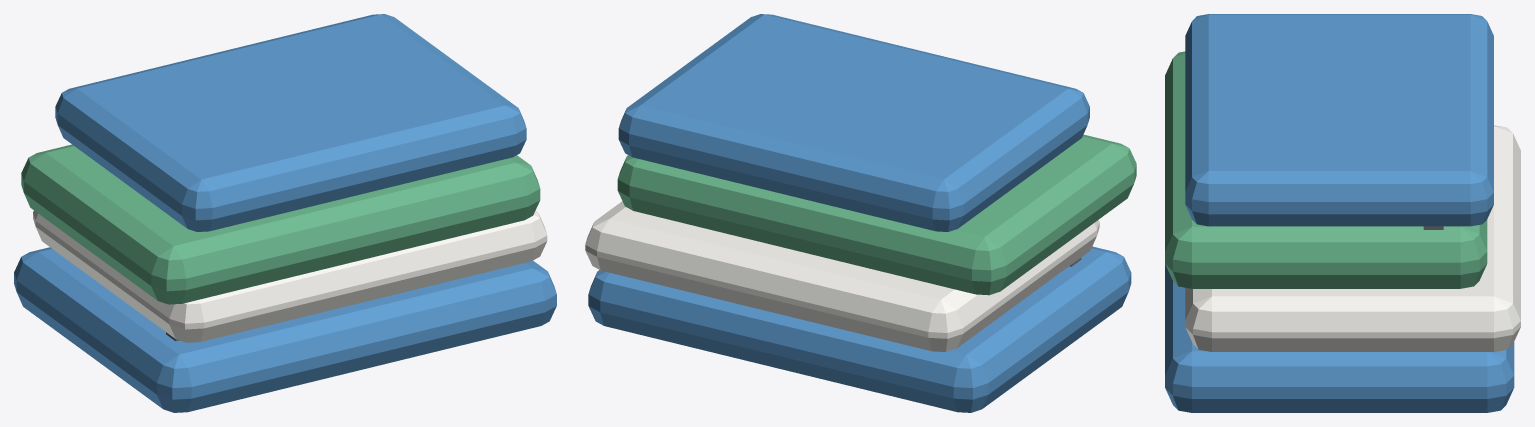
Rendered from boarding-kennels-and-cattery-boarding-kennels-and-catt-1c3ef60c__35541.glb.
The picture shows the model from 3 angles, left to right: view 1: azimuth 30°, elevation 25°; view 2: azimuth 150°, elevation 25°; view 3: azimuth 270°, elevation 25°; orthographic projection. The views are drawn at different scales.
Visible parts, largest first — view 1: boarding-kennels-and-cattery-bedding-pile; view 2: boarding-kennels-and-cattery-bedding-pile; view 3: boarding-kennels-and-cattery-bedding-pile.
Part boxes in pixels (<box>): boarding-kennels-and-cattery-bedding-pile: <box>14,14,556,412</box>; boarding-kennels-and-cattery-bedding-pile: <box>585,14,1136,412</box>; boarding-kennels-and-cattery-bedding-pile: <box>1165,14,1520,412</box>.
Bounding box in the file's own units: 0.73 × 0.38 × 0.53.
